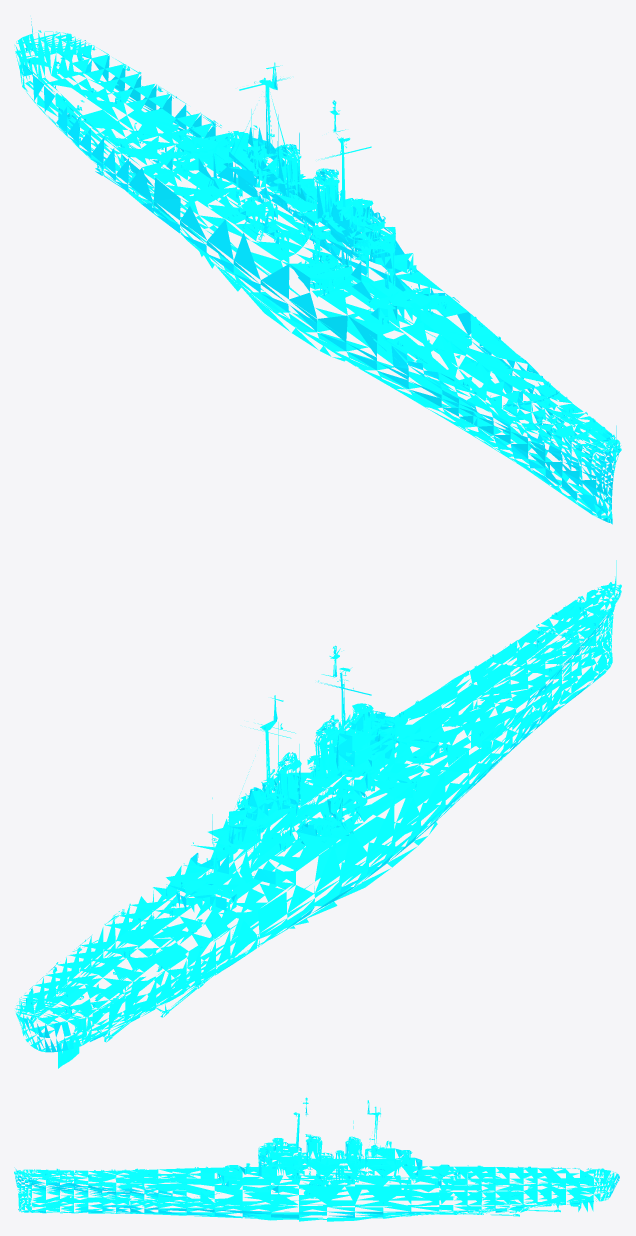
Rendered from Jacksonville_PLUS.glb.
3 renders of one model, top to bottom at view 1: azimuth 30°, elevation 25°; view 2: azimuth 150°, elevation 25°; view 3: azimuth 270°, elevation 25°, orthographic. The views are drawn at different scales.
Bounding box in the file's own units: 1.59 × 3.09 × 14.83.
